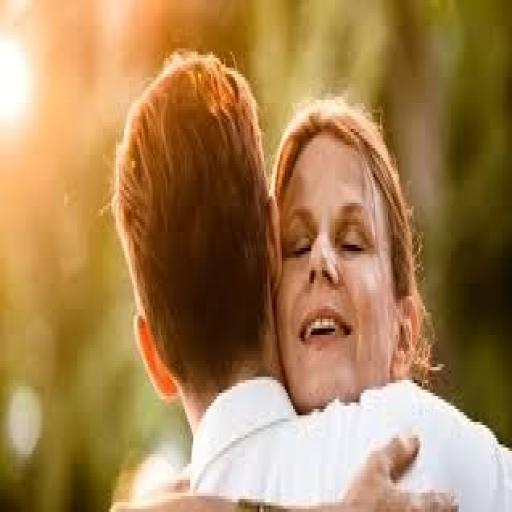hugging: (108, 45, 510, 509)
